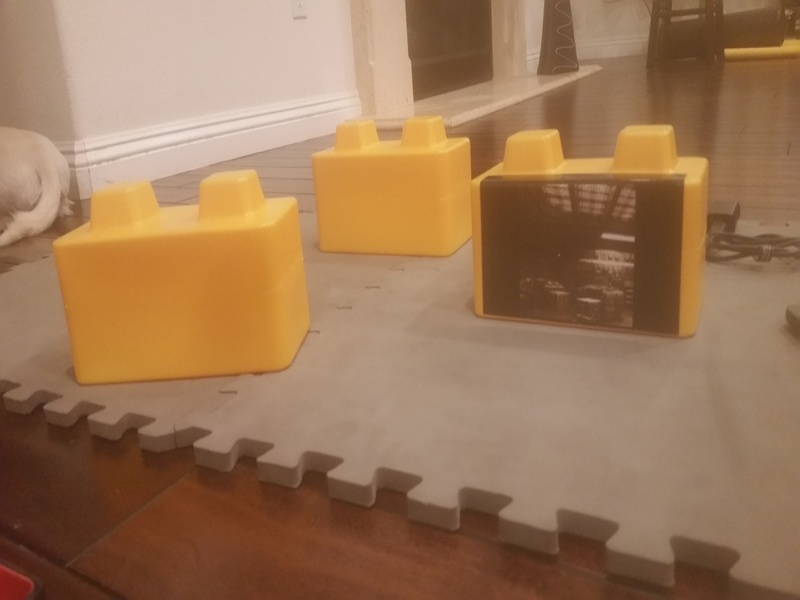Skystone: (471, 124, 711, 354)
Stone: (52, 166, 314, 392), (312, 107, 474, 262)
